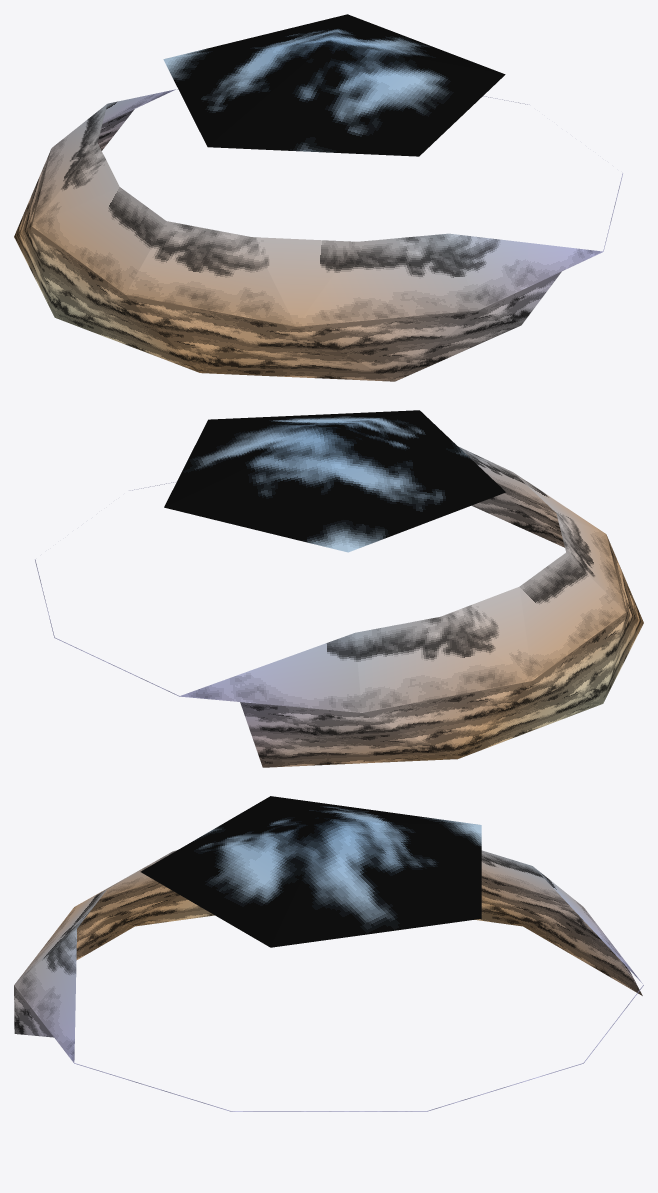
The model's file is uvmd-0363.glb.
3 views of the same model, one above another, from view 1: azimuth 30°, elevation 25°; view 2: azimuth 150°, elevation 25°; view 3: azimuth 270°, elevation 25° (orthographic). The views are drawn at different scales.
Visible parts, largest first — view 1: uvmd-0363; view 2: uvmd-0363; view 3: uvmd-0363.
Boxes of the visible parts, x1,y1,x2,y2 form: uvmd-0363: (14,14,622,381); uvmd-0363: (35,410,643,767); uvmd-0363: (14,796,643,1111).
Bounding box in the file's own units: 3576 × 1300 × 3412.
3 materials, 3 textured.
